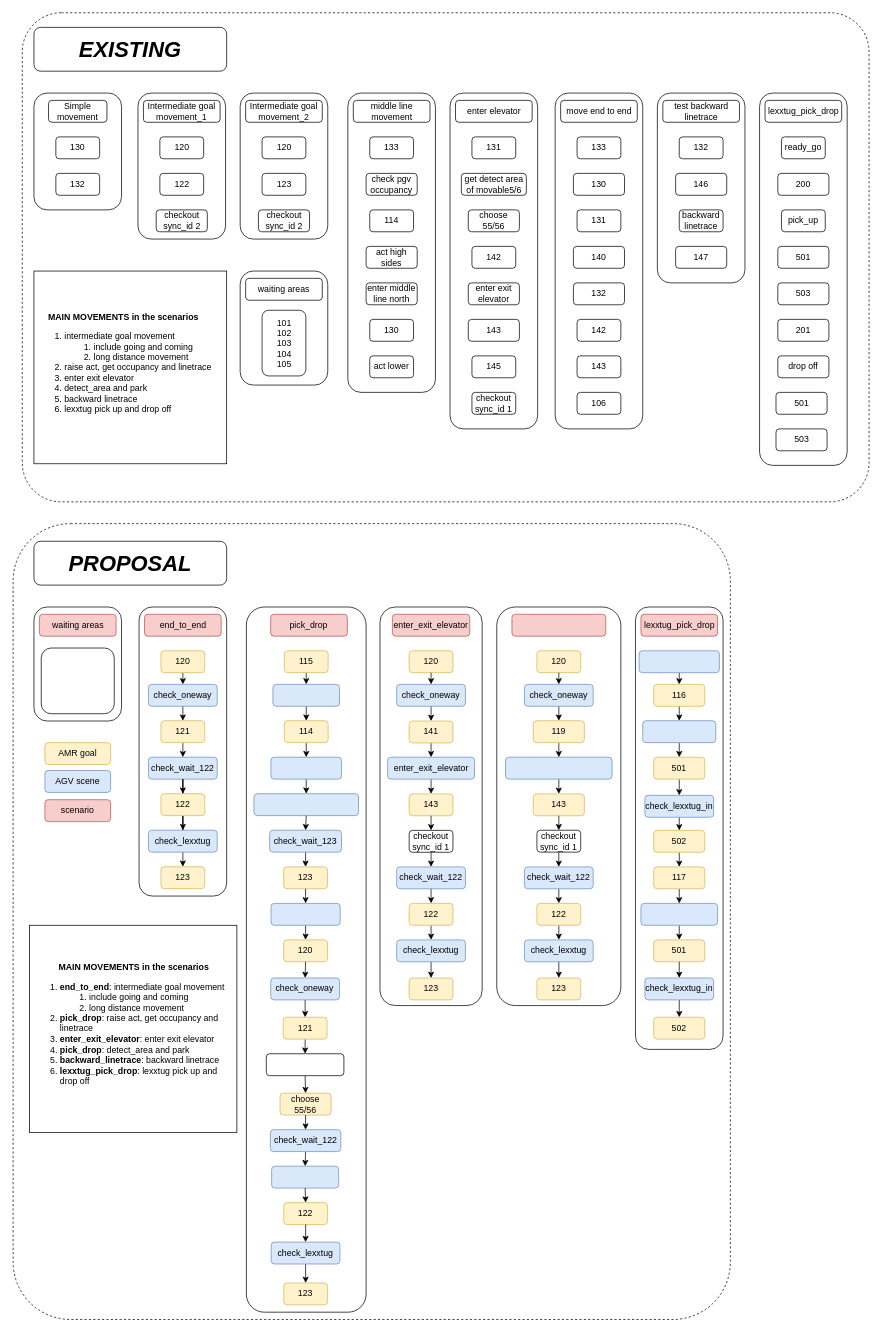
This 882x1332 diagram has some shape labels left out. Each missing label, with the centre of its shape:
101 - only lexxtug 102 103 104 105: the point at 77,680
act_high_sides: the point at 306,767
act_lower: the point at 305,1176
backward_linetrace: the point at 558,625
backward_trace_118_119: the point at 558,767
check_pickup: the point at 306,695
check_wait_120: the point at 305,914
enter_middle_line_north: the point at 306,804
get detect_area of drop_right/left: the point at 305,1064
lexxtug_drop_off: the point at 679,914
lexxtug_pick_up: the point at 679,731
lexxtug_ready_go: the point at 678,661
